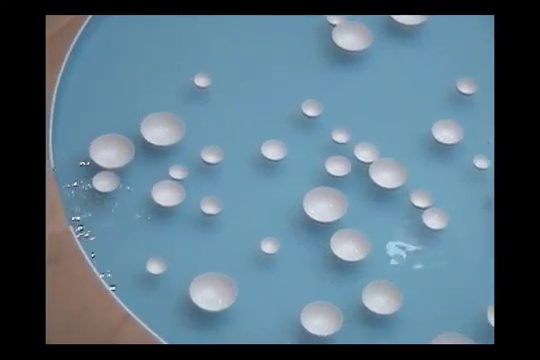bowl: (186, 269, 237, 313), (86, 131, 139, 171), (298, 297, 347, 340), (300, 185, 350, 226), (137, 110, 187, 148), (360, 276, 404, 316), (327, 225, 371, 261), (330, 20, 375, 54), (367, 156, 408, 190), (150, 178, 187, 209), (429, 116, 467, 146), (90, 168, 123, 194), (426, 329, 476, 346), (322, 154, 354, 178), (387, 12, 430, 29), (420, 206, 449, 230), (259, 138, 289, 161), (407, 184, 435, 208), (353, 141, 383, 163), (199, 193, 226, 217), (199, 143, 225, 166), (300, 96, 324, 119), (144, 254, 168, 277), (455, 75, 478, 97), (167, 160, 191, 181), (331, 124, 352, 145), (259, 234, 281, 254), (472, 151, 492, 171), (192, 71, 214, 89), (484, 300, 496, 331), (326, 12, 348, 27)
